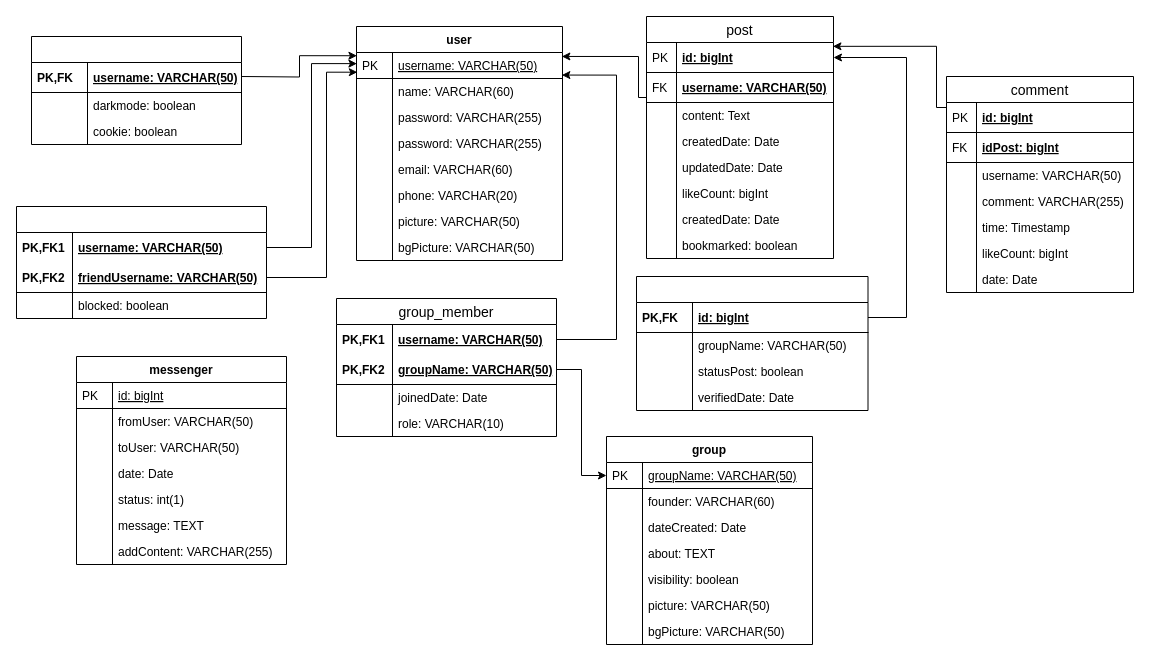
This 1150x661 diagram has some shape labels left out. The shapes that lost their labels are listed below. From the top down, each one's box as (x1, y1, x2, y2) in pixels, then its label:
(30, 36, 242, 144): user_setting
(16, 206, 266, 318): friend_list
(636, 276, 868, 410): post_in_group
